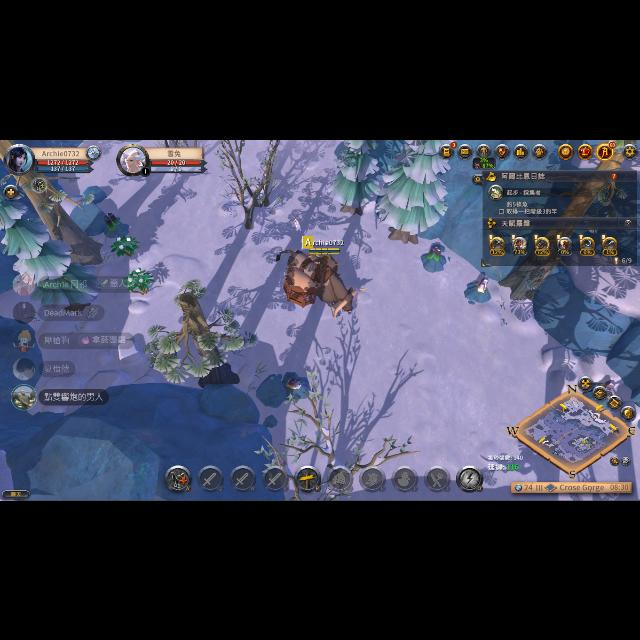mine_ii: (591, 375, 617, 407), (463, 276, 492, 302), (282, 373, 310, 399)
mine_iii: (419, 243, 449, 275), (100, 212, 130, 238)
